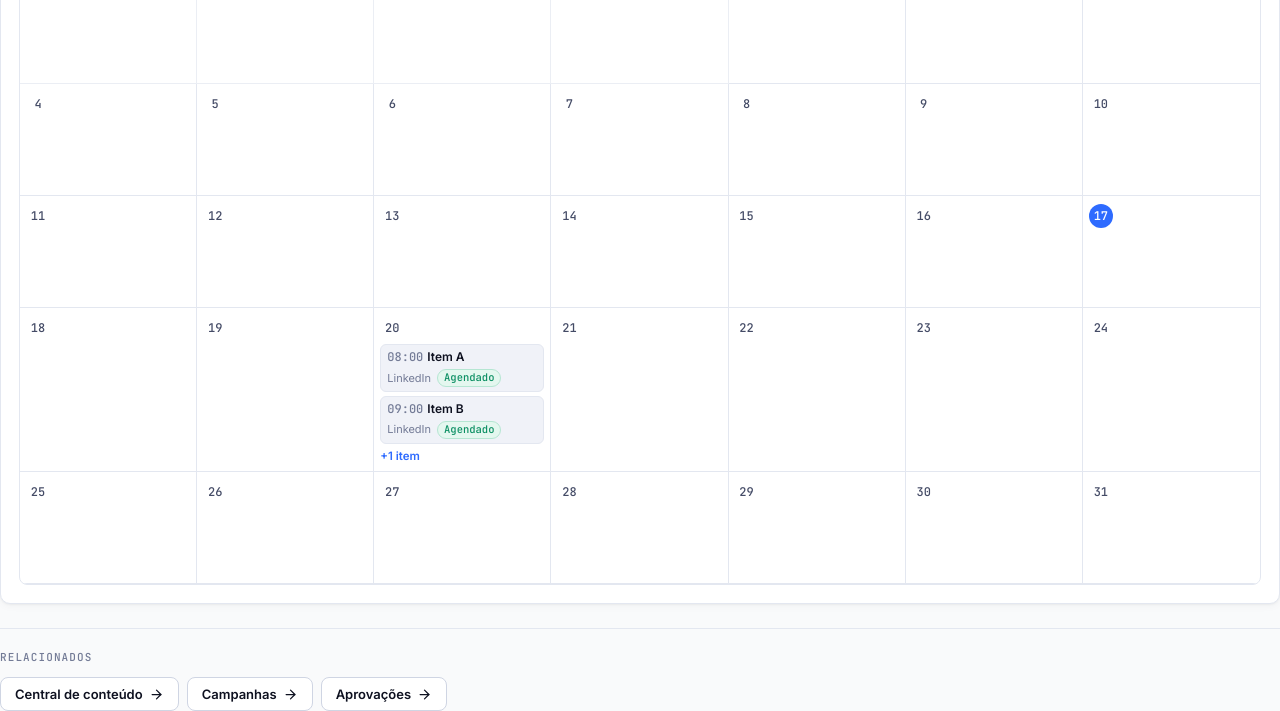
Test case: PortalEditorialCalendarPage › mostra "+N itens" quando o dia tem mais itens do que cabem e leva à semana
(page scrolled)
Click the button "+1 item" at coordinates (462, 456), box left=380, top=448, right=544, bottom=465
(page scrolled)
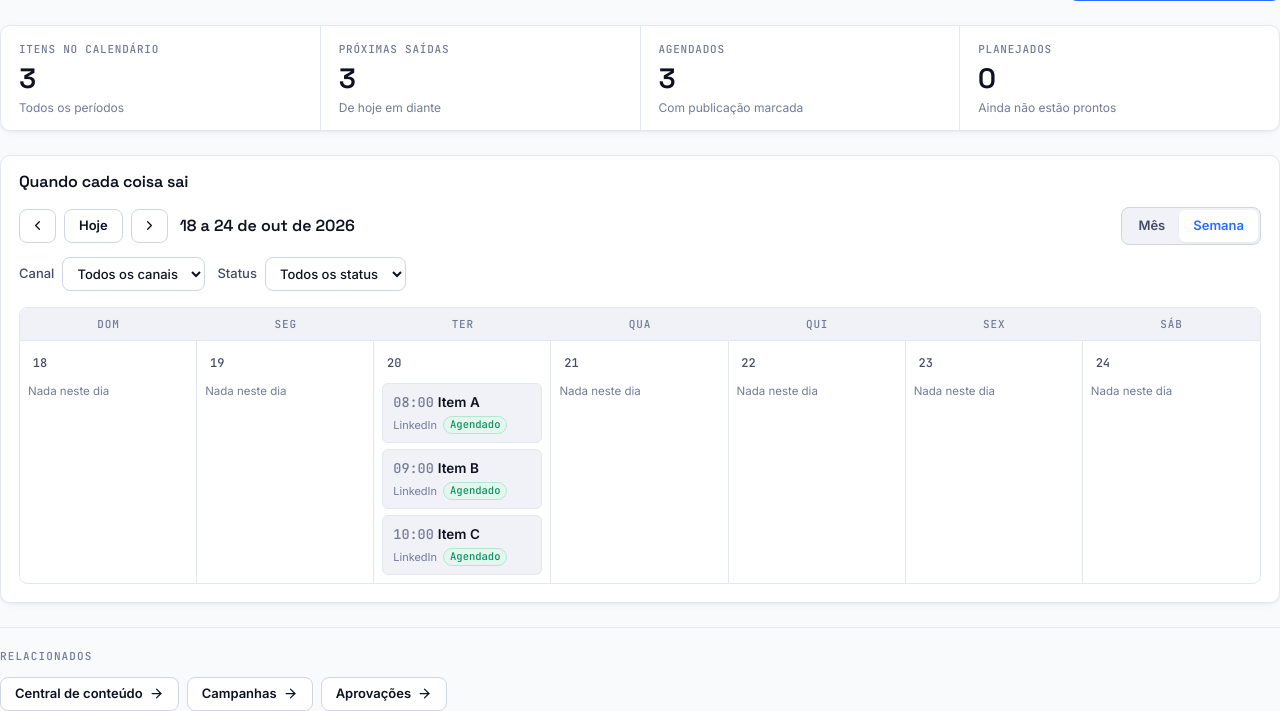
Expected: the element with test id "week-grid" is shown, left=19, top=307, right=1261, bottom=584
